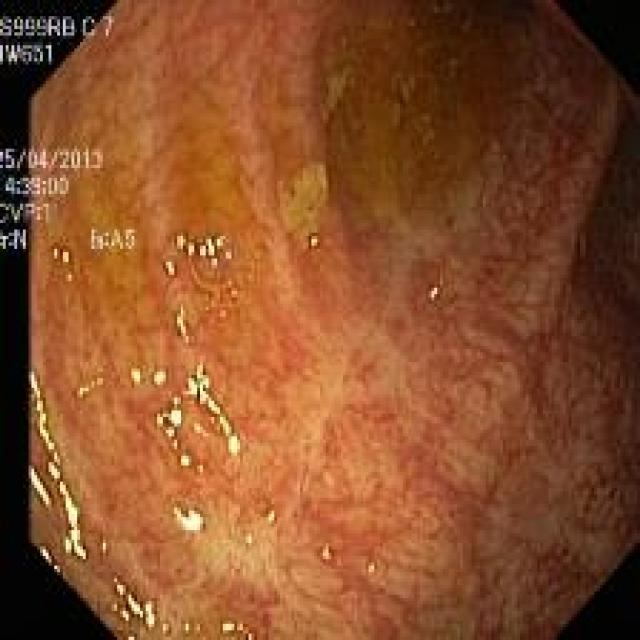ulcerative-colitis-grade-0-1: (11, 96, 634, 638)
